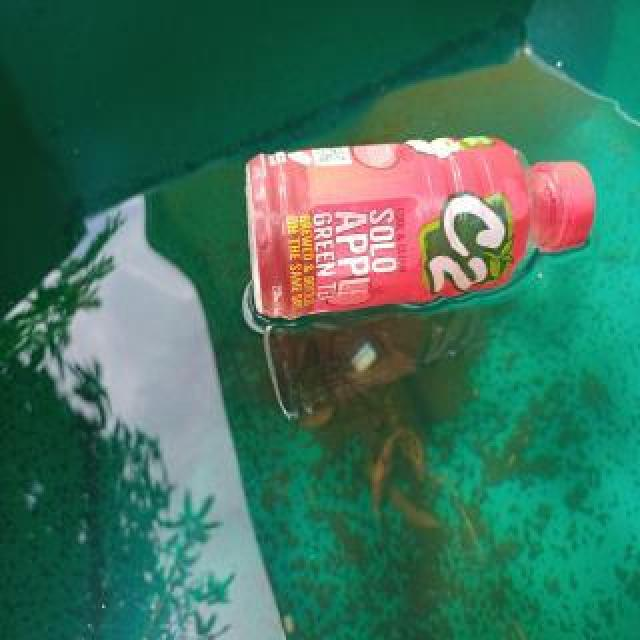bottle: (243, 132, 597, 320)
